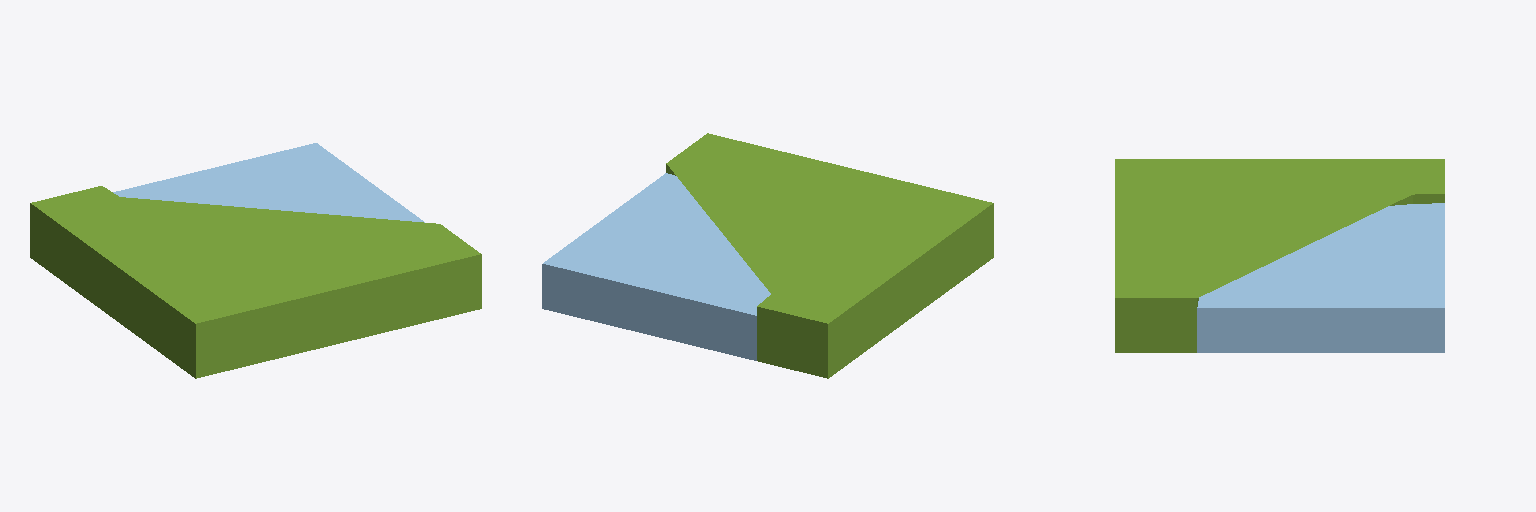
3 views of the same model, side by side, from view 1: azimuth 30°, elevation 25°; view 2: azimuth 150°, elevation 25°; view 3: azimuth 270°, elevation 25° (orthographic).
Parts seen in each view (by area): view 1: roadTile_177.001; view 2: roadTile_177.001; view 3: roadTile_177.001.
Part boxes in pixels (left/top/right/bottom): roadTile_177.001: left=30, top=143, right=481, bottom=378; roadTile_177.001: left=542, top=133, right=993, bottom=378; roadTile_177.001: left=1115, top=159, right=1444, bottom=352.
Bounding box in the file's own units: 3 × 0.55 × 3.